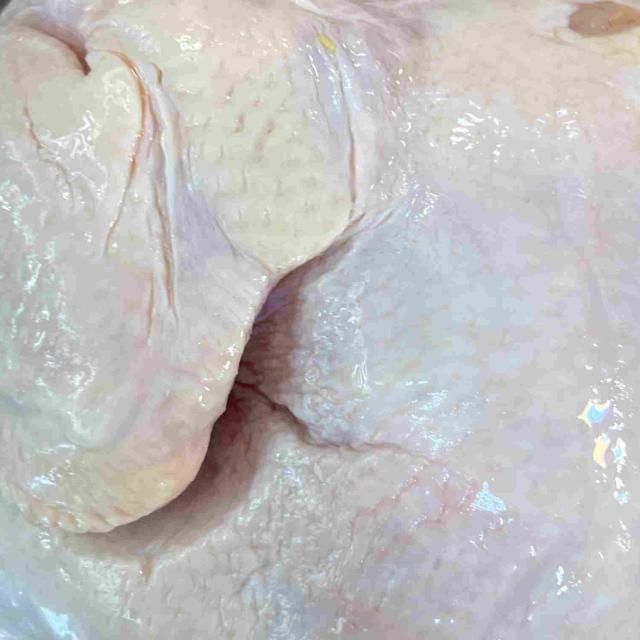back: (139, 197, 640, 640)
wing: (0, 25, 365, 542)
